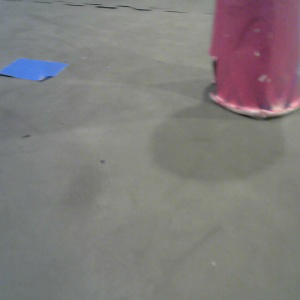right: (208, 1, 300, 118)
